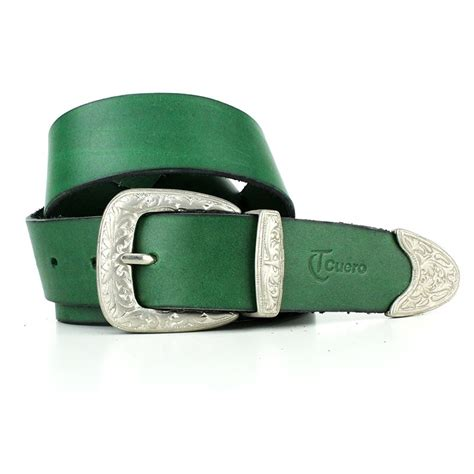cuero: (26, 92, 413, 328)
